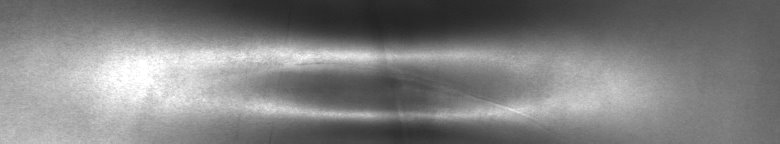ke: (196, 24, 550, 136)
